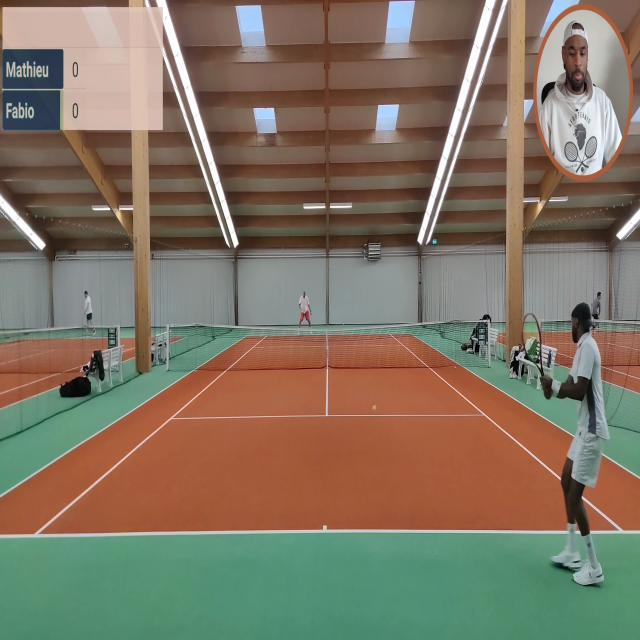ball: (372, 404, 377, 412)
